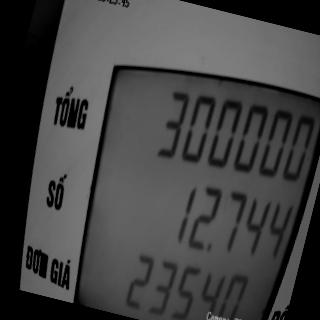screen: (52, 33, 320, 320)
